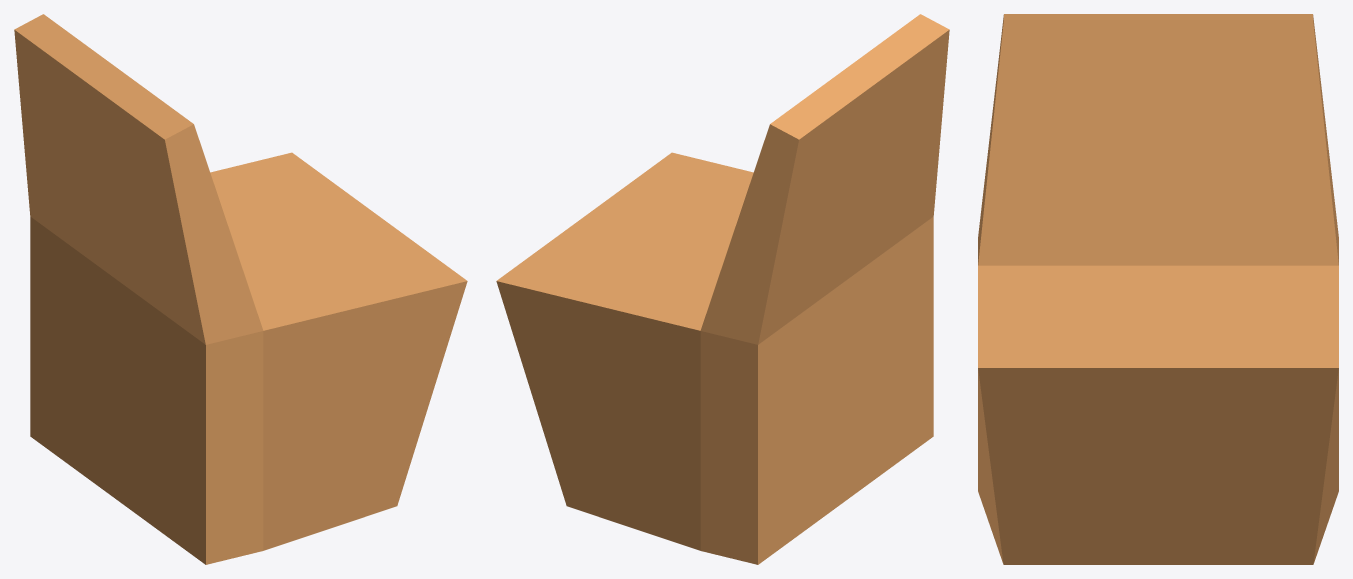
File: chair_bulk.fbx
3 renders of one model, left to right at view 1: azimuth 30°, elevation 25°; view 2: azimuth 150°, elevation 25°; view 3: azimuth 270°, elevation 25°, orthographic. The views are drawn at different scales.
Parts seen in each view (by area): view 1: chair_bulk; view 2: chair_bulk; view 3: chair_bulk.
Part boxes in pixels (left/top/right/bottom): chair_bulk: left=14, top=14, right=467, bottom=564; chair_bulk: left=496, top=14, right=949, bottom=564; chair_bulk: left=978, top=14, right=1338, bottom=564.
Bounding box in the file's own units: 75.08 × 107 × 78.66.
1 material, 1 textured.
